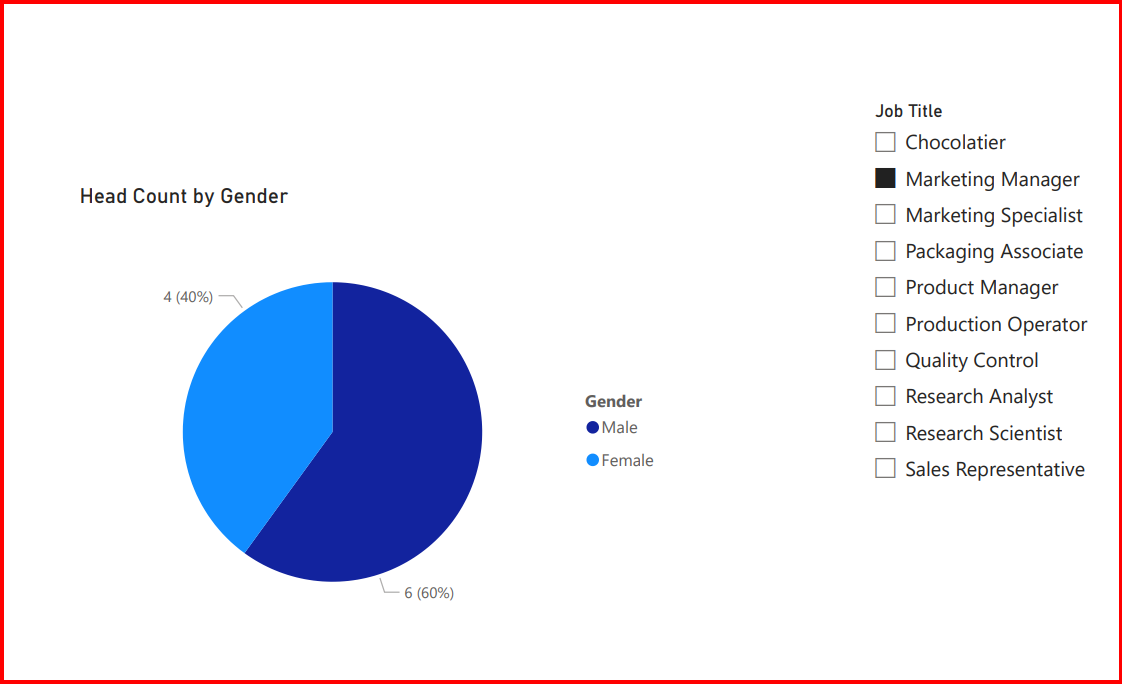

What the dashboard file says about the page in this screenshot:
{"tool":"powerbi","page":{"name":"Page 2","canvas":[1280,720],"ordinal":1},"visuals":[{"type":"pieChart","fields":{"Category":["staff.Gender"],"Y":["staff.Head Count"]},"box":[118,247,480.3,378.7],"z":0},{"type":"slicer","fields":{"Values":["staff.Job Title"]},"box":[746.5,175.6,413,510.5],"z":1000},{"type":"textbox","box":[149.6,0,813.7,65.9],"z":2000}]}

Visuals, with their boxes on the page's 1280x720 design canvas (x1, y1, x2, y2). These are canvas units, not pixel positions in the 1122x684 screenshot, which may show the page scaled, cropped or inside an application window:
pieChart - staff.Gender x staff.Head Count: Rect(118, 247, 598, 626)
slicer - staff.Job Title: Rect(746, 176, 1160, 686)
textbox: Rect(150, 0, 963, 66)
